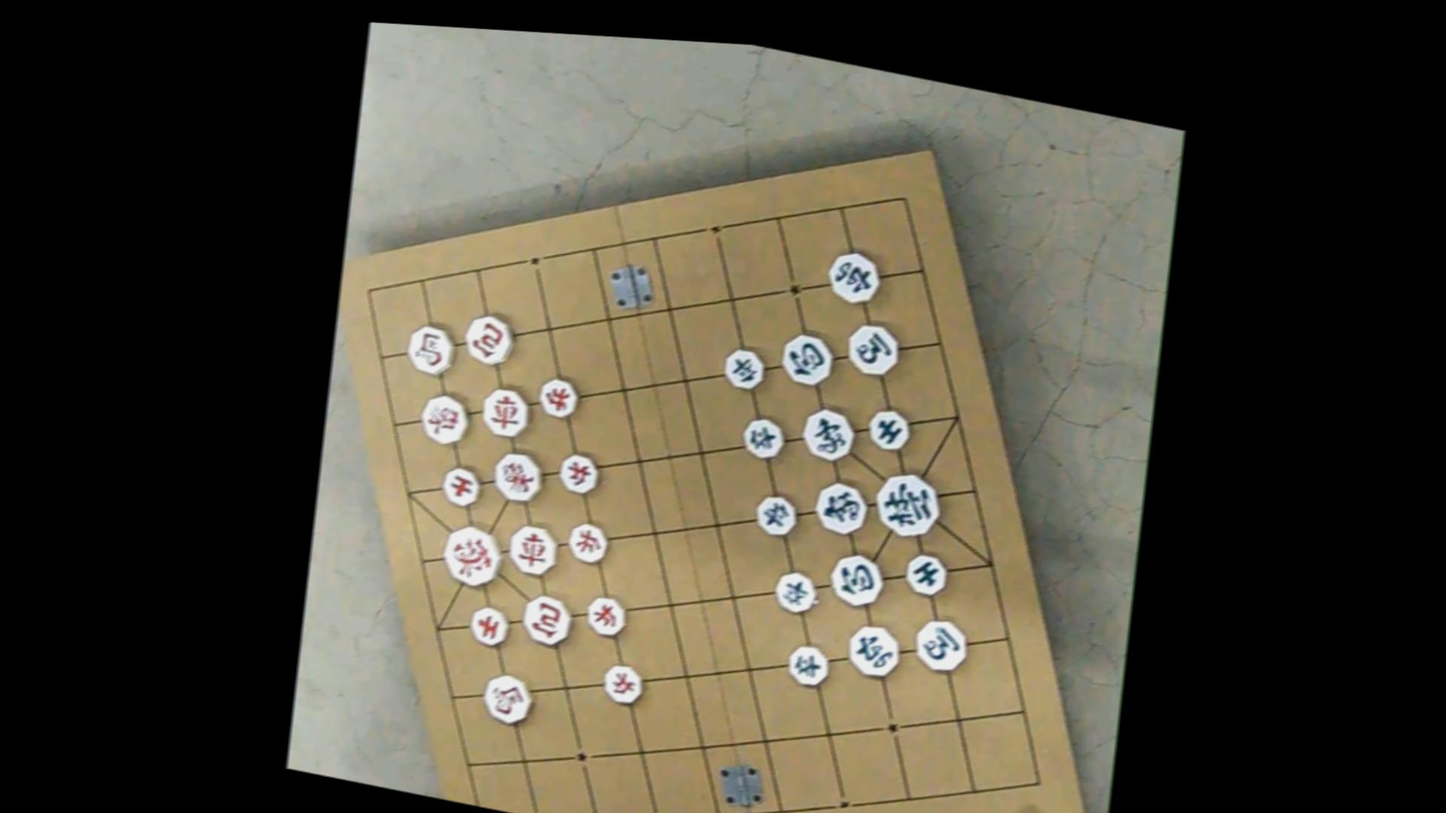cha_green: (824, 248, 883, 307), (845, 621, 903, 681)
cha_red: (505, 522, 560, 578), (479, 385, 532, 440)
jol_green: (772, 568, 819, 615), (752, 492, 799, 538), (785, 642, 831, 689), (721, 345, 767, 391), (740, 416, 786, 461)
jol_red: (536, 374, 581, 420), (557, 451, 601, 496), (601, 662, 644, 707), (584, 593, 627, 638), (566, 521, 609, 565)
ma_green: (911, 617, 969, 676), (844, 321, 901, 378)
ma_red: (480, 671, 535, 726), (404, 321, 458, 377)
po_green: (826, 550, 886, 610), (778, 330, 835, 388)
po_red: (520, 593, 575, 649), (462, 312, 517, 368)
sa_green: (902, 550, 950, 598), (866, 407, 912, 452)
sa_red: (439, 465, 483, 509), (468, 603, 511, 648)
sang_green: (811, 477, 871, 537), (800, 405, 857, 463)
sang_red: (490, 448, 545, 505), (418, 393, 472, 448)
wang_green: (870, 466, 944, 542)
wang_red: (439, 522, 505, 590)
